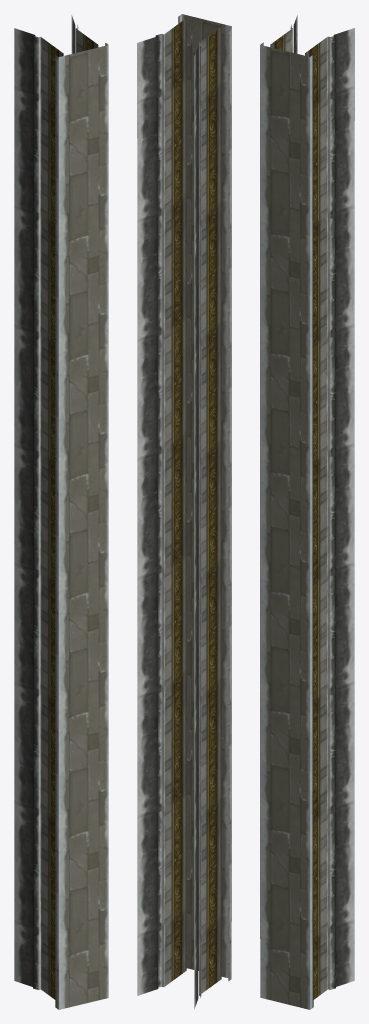
Rendered from zhongbu_fuben_207_wall_01_j.obj.
3 views of the same model, side by side, from view 1: azimuth 30°, elevation 25°; view 2: azimuth 150°, elevation 25°; view 3: azimuth 330°, elevation 25° (orthographic).
Visible parts, largest first — view 1: Object11; view 2: Object11; view 3: Object11.
Part boxes in pixels (x1=…): Object11: x1=14, y1=15, x2=108, y2=1009; Object11: x1=137, y1=14, x2=231, y2=1009; Object11: x1=260, y1=15, x2=354, y2=1009.
Size of the model in its own units: 129 by 2049 by 160.
1 material, 1 textured.
